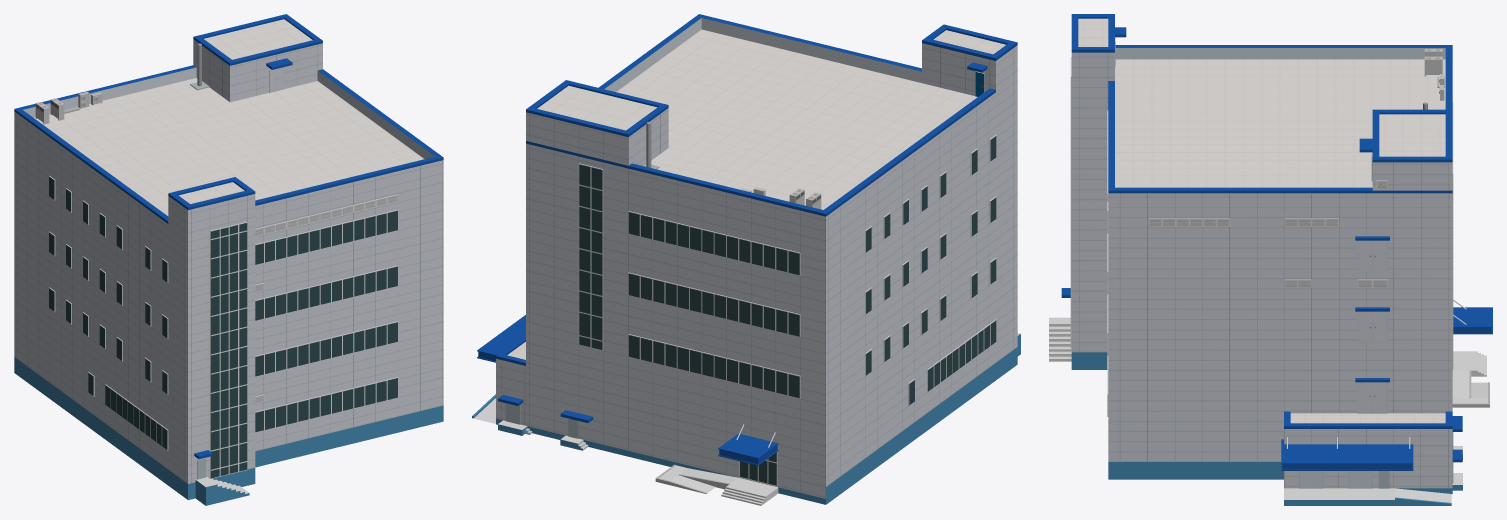
The picture shows the model from 3 angles, left to right: view 1: azimuth 30°, elevation 25°; view 2: azimuth 150°, elevation 25°; view 3: azimuth 270°, elevation 25°; orthographic projection. The views are drawn at different scales.
Visible parts, largest first — view 1: Peni_Building, Peni_ect; view 2: Peni_Building, Peni_ect; view 3: Peni_Building, Peni_ect.
Part boxes in pixels (<box>): Peni_Building: <box>14,14,443,505</box>; Peni_ect: <box>35,43,209,124</box>; Peni_Building: <box>472,14,1020,505</box>; Peni_ect: <box>643,122,821,209</box>; Peni_Building: <box>1049,14,1492,505</box>; Peni_ect: <box>1423,49,1444,109</box>.
Size of the model in its own units: 6.25 by 5.26 by 6.55.
Materials: 5 (5 with a texture image).
